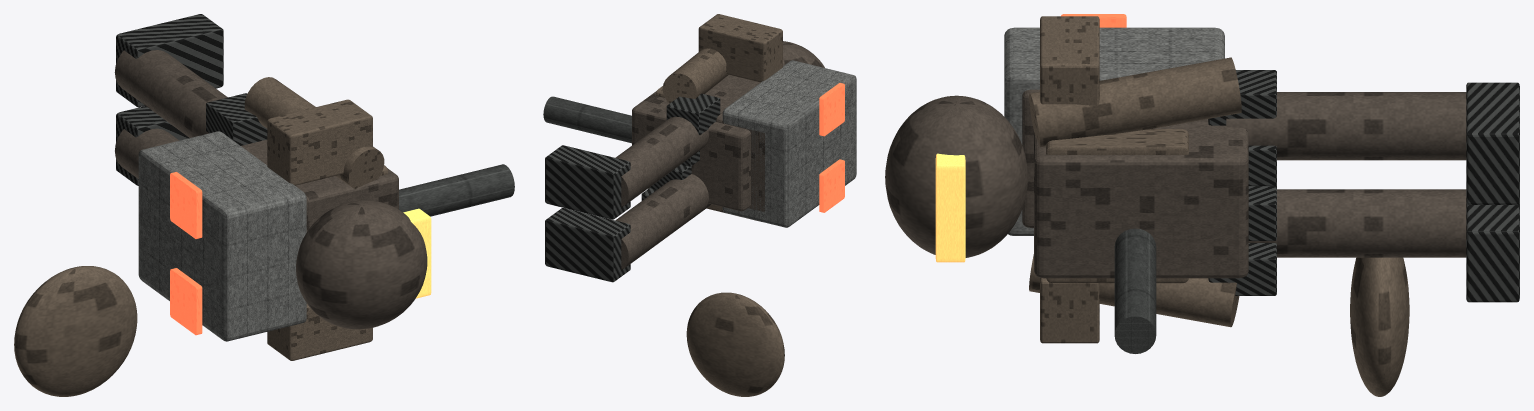
The model's file is d-u06-dominion-combat-medic-lod0.glb.
The picture shows the model from 3 angles, left to right: view 1: azimuth 30°, elevation 25°; view 2: azimuth 150°, elevation 25°; view 3: azimuth 270°, elevation 25°; orthographic projection. The views are drawn at different scales.
Visible parts, largest first — view 1: medical_pack, soldier_0_helmet, medic_drone, soldier_0_shoulder_1, soldier_0_leg_1, soldier_0_boot_1, soldier_0_rifle, soldier_0_arm_1, soldier_0_torso, soldier_0_shoulder_-1, soldier_0_pouch_3, medical_cross_-1 (+4 smaller); view 2: medical_pack, medic_drone, soldier_0_torso, soldier_0_boot_1, soldier_0_boot_-1, soldier_0_leg_-1, soldier_0_shoulder_1, soldier_0_leg_1, soldier_0_rifle, soldier_0_arm_1, soldier_0_pouch_3, soldier_0_backpack (+4 smaller); view 3: soldier_0_torso, soldier_0_helmet, soldier_0_leg_1, soldier_0_leg_-1, soldier_0_arm_1, medical_pack, medic_drone, soldier_0_boot_1, soldier_0_shoulder_1, soldier_0_boot_-1, soldier_0_rifle, soldier_0_arm_-1 (+8 smaller).
Part boxes in pixels (x1,y1,x2,y2): medical_pack: (138,131,306,341); soldier_0_helmet: (296,200,427,329); medic_drone: (14,266,137,396); soldier_0_shoulder_1: (267,99,372,185); soldier_0_leg_1: (114,50,227,137); soldier_0_boot_1: (116,14,223,107); soldier_0_rifle: (399,164,514,216); soldier_0_arm_1: (244,77,384,189); soldier_0_torso: (241,139,398,229); soldier_0_shoulder_-1: (267,304,372,360); soldier_0_pouch_3: (206,93,267,145); medical_cross_-1: (170,268,202,335); medical_pack: (722,60,856,227); medic_drone: (686,292,784,396); soldier_0_torso: (632,75,760,211); soldier_0_boot_1: (545,145,630,219); soldier_0_boot_-1: (545,208,630,282); soldier_0_leg_-1: (615,174,711,269); soldier_0_shoulder_1: (698,14,782,82); soldier_0_leg_1: (615,116,708,207); soldier_0_rifle: (543,96,631,143); soldier_0_arm_1: (662,48,728,103); soldier_0_pouch_3: (666,93,720,135); soldier_0_backpack: (716,112,764,211); soldier_0_torso: (1034,119,1248,278); soldier_0_helmet: (885,95,1027,257); soldier_0_leg_1: (1226,92,1466,160); soldier_0_leg_-1: (1248,189,1466,257); soldier_0_arm_1: (1029,57,1241,147); medical_pack: (1004,27,1224,235); medic_drone: (1350,257,1409,396); soldier_0_boot_1: (1466,82,1519,204); soldier_0_shoulder_1: (1040,16,1099,105); soldier_0_boot_-1: (1466,201,1519,302); soldier_0_rifle: (1114,228,1156,353); soldier_0_arm_-1: (1029,254,1239,327).
Size of what is drawn, in the model's own units: 1.88 by 1.56 by 2.13.
Materials: 7 (7 with a texture image).
